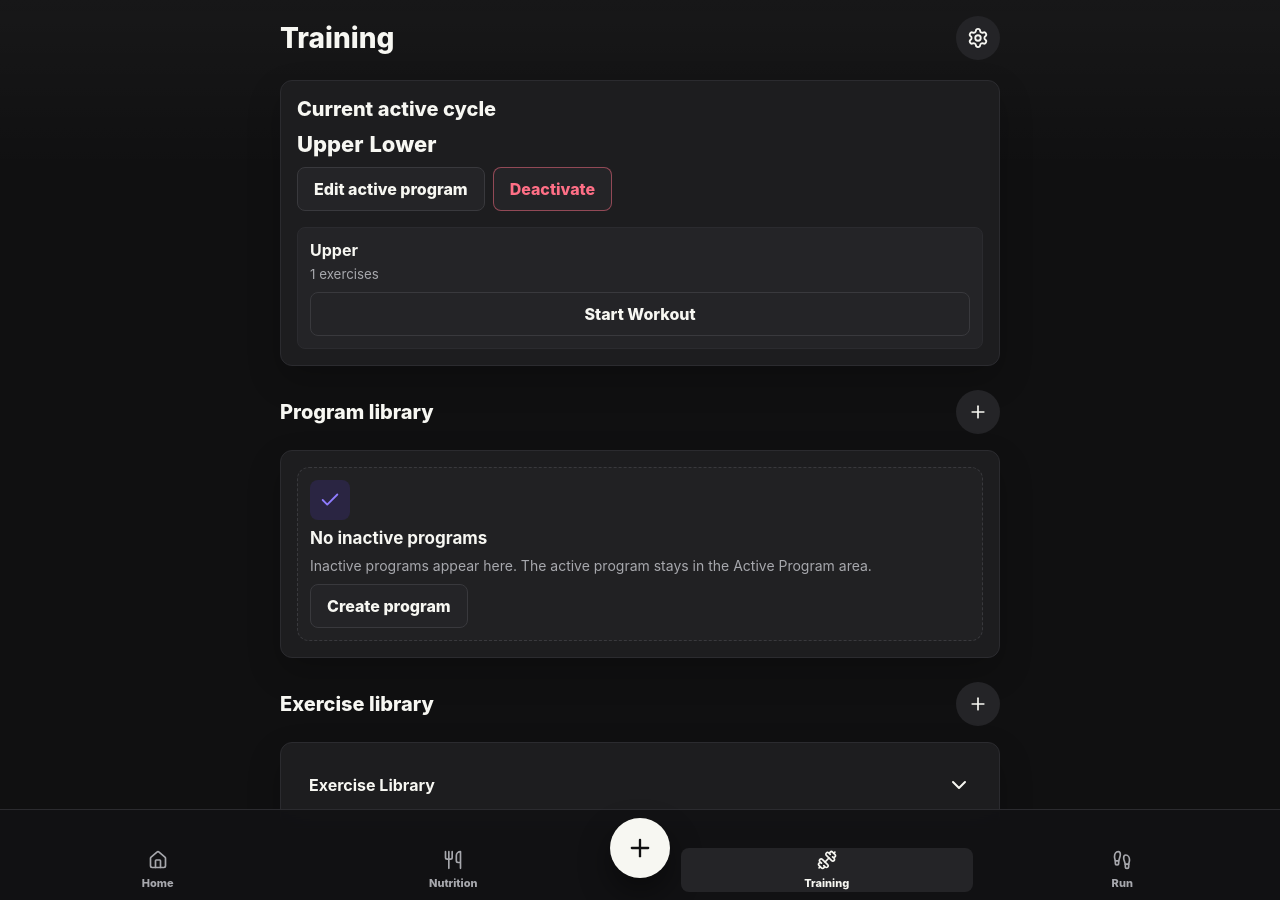
TrainingPage › starts a selected workout day, logs a set, and recovers after remount
Click the button "Upper 1 exercises".
click(334, 250)  # box [310, 240, 970, 284]
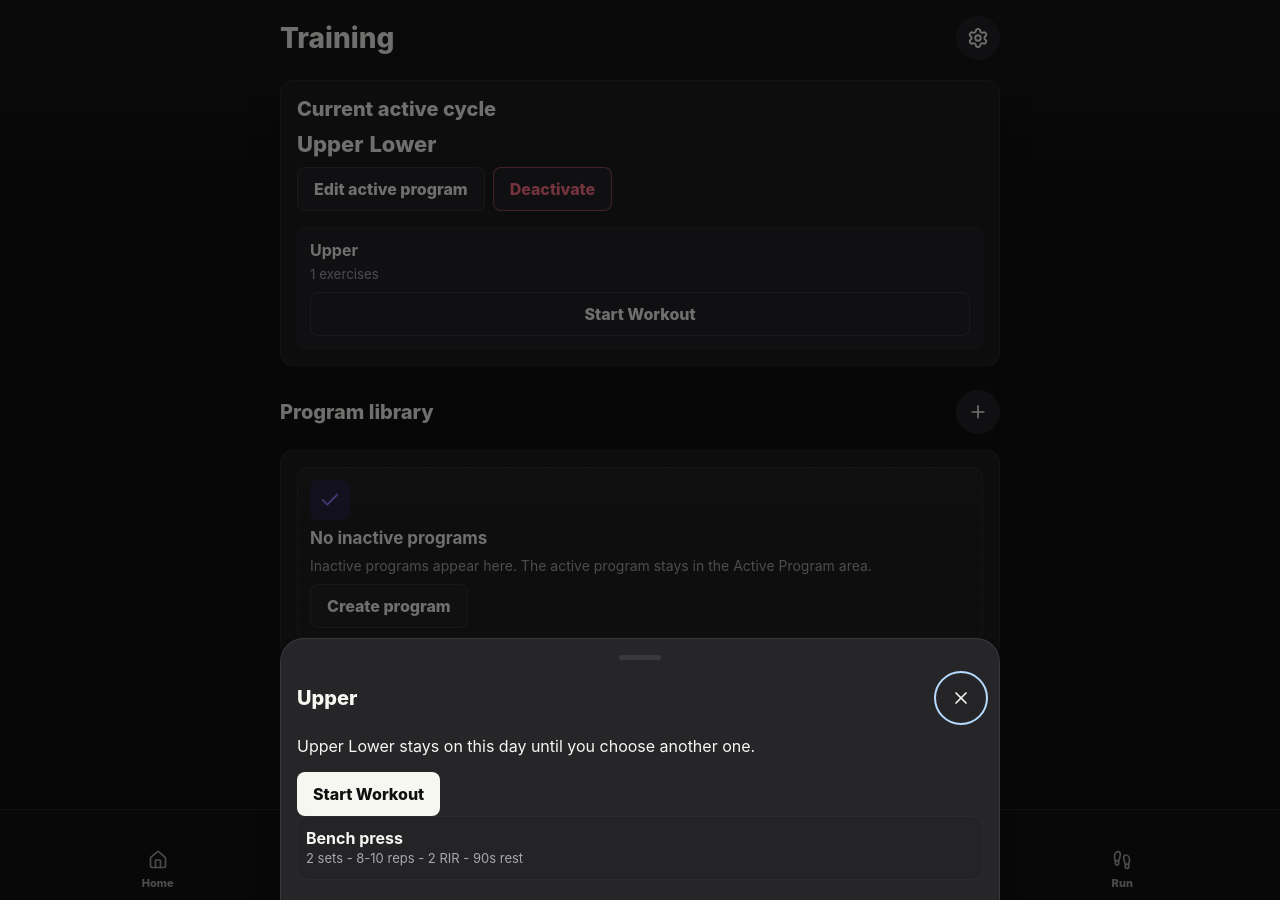
Click the button "Start Workout".
click(369, 794)  # box [297, 772, 440, 816]
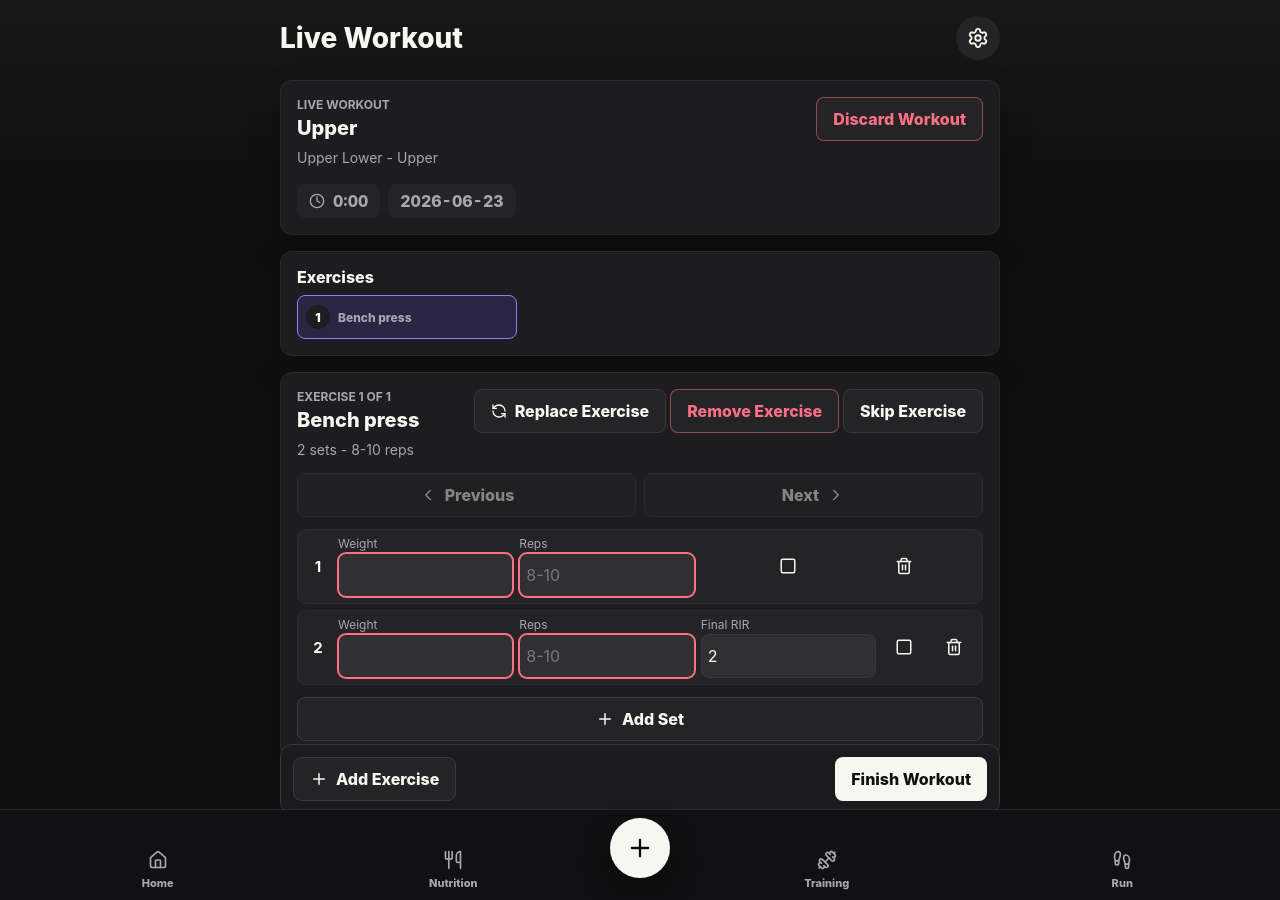
Check: the text "Live workout" is shown, box [297, 97, 390, 112]
Type "185" into the field named "Set 1 Weight".
click(426, 575); type("185")  # box [338, 553, 513, 597]
Press Tab
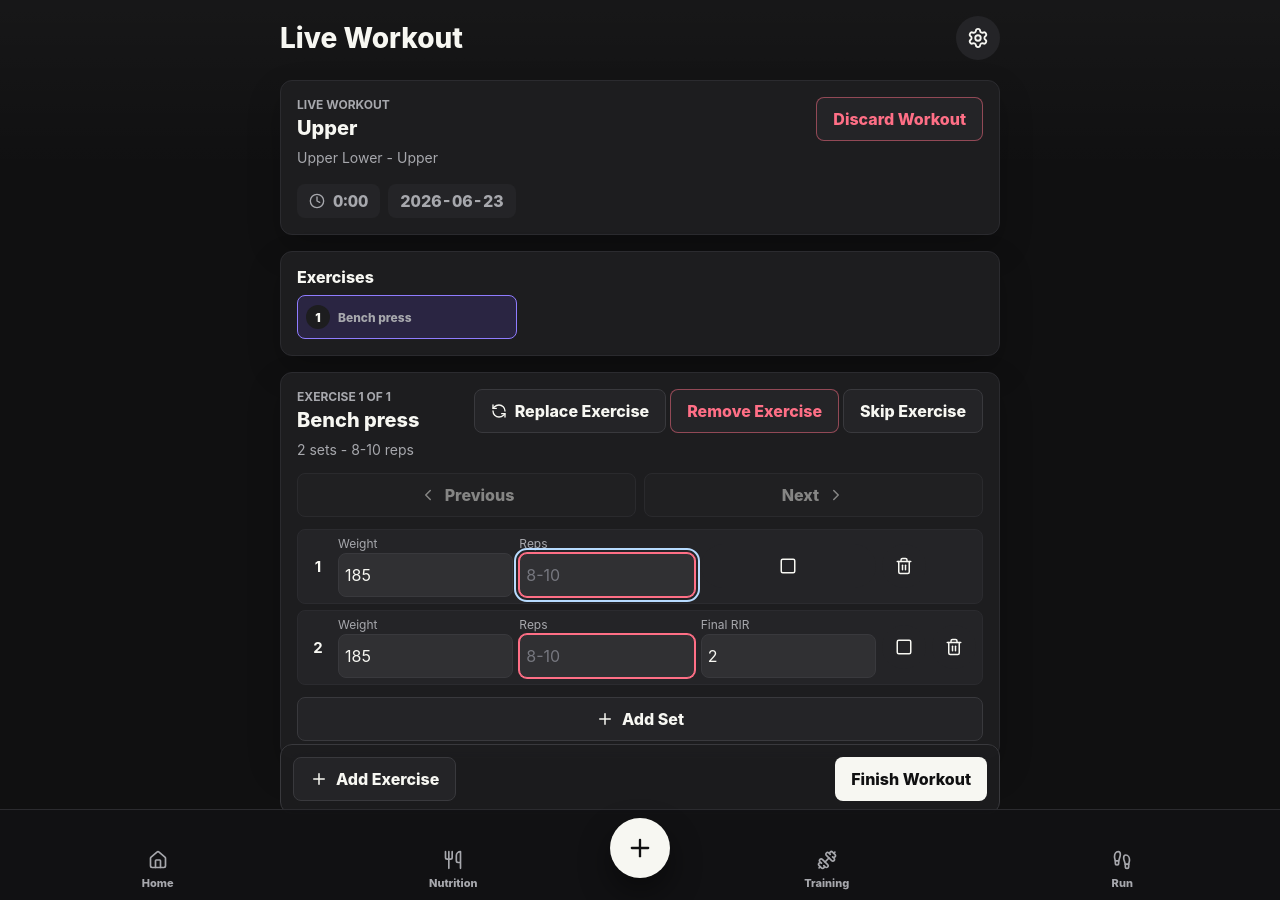
Type "8" into the field named "Set 1 Reps".
click(607, 575); type("8")  # box [519, 553, 695, 597]
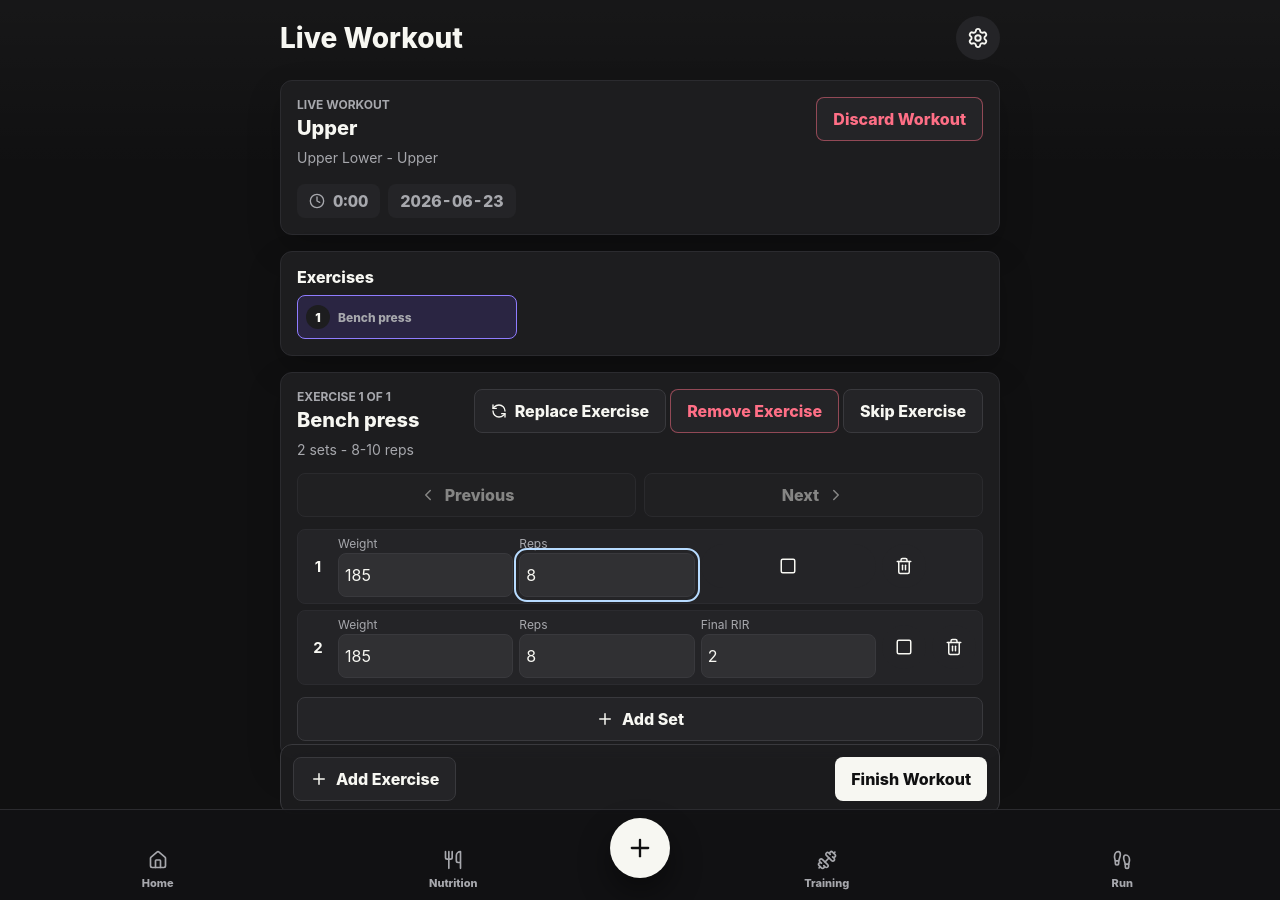
Press Tab
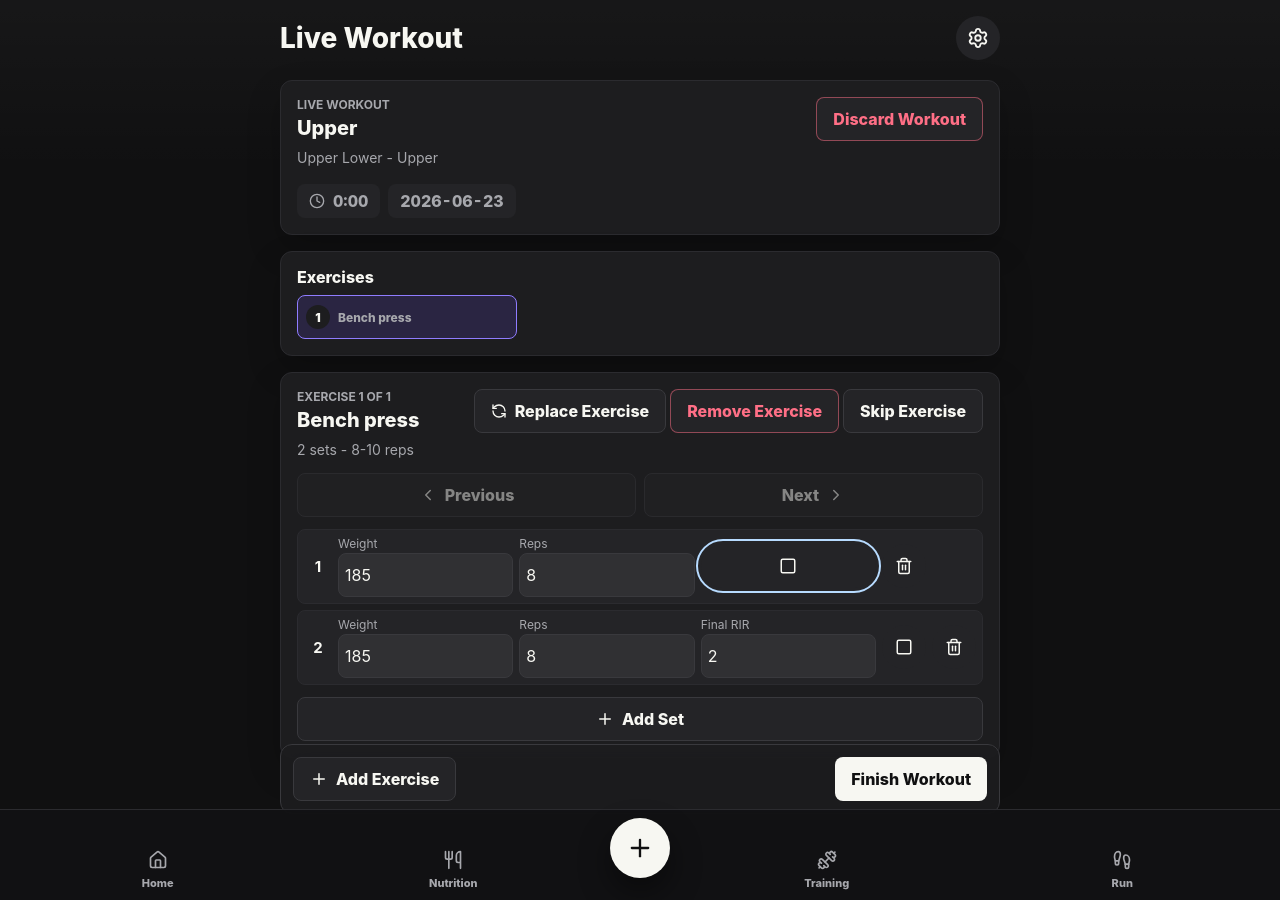
Click the button named "Complete set 1".
click(788, 566)  # box [701, 544, 876, 588]
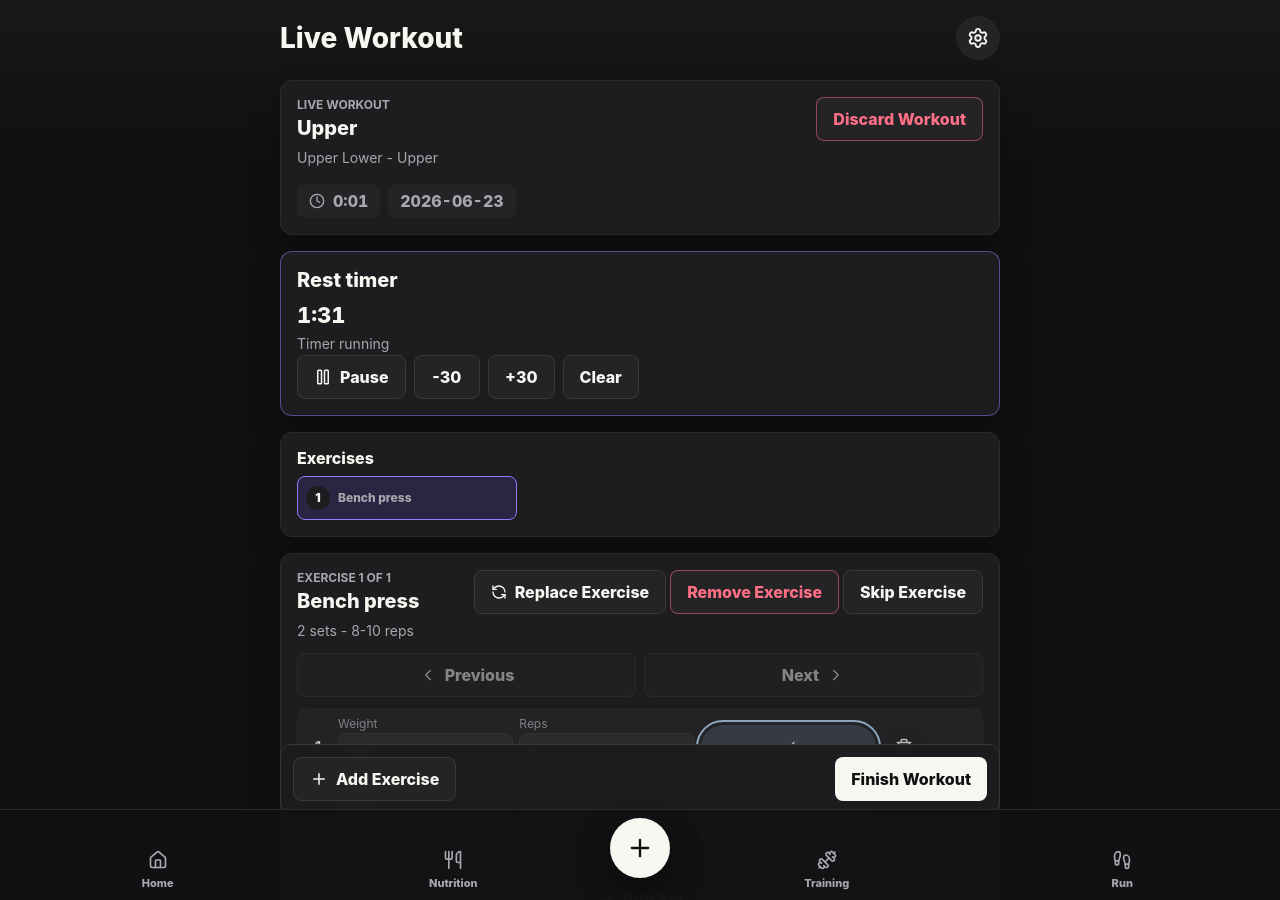
Check: the heading "Rest timer" is shown, box [297, 268, 398, 292]
